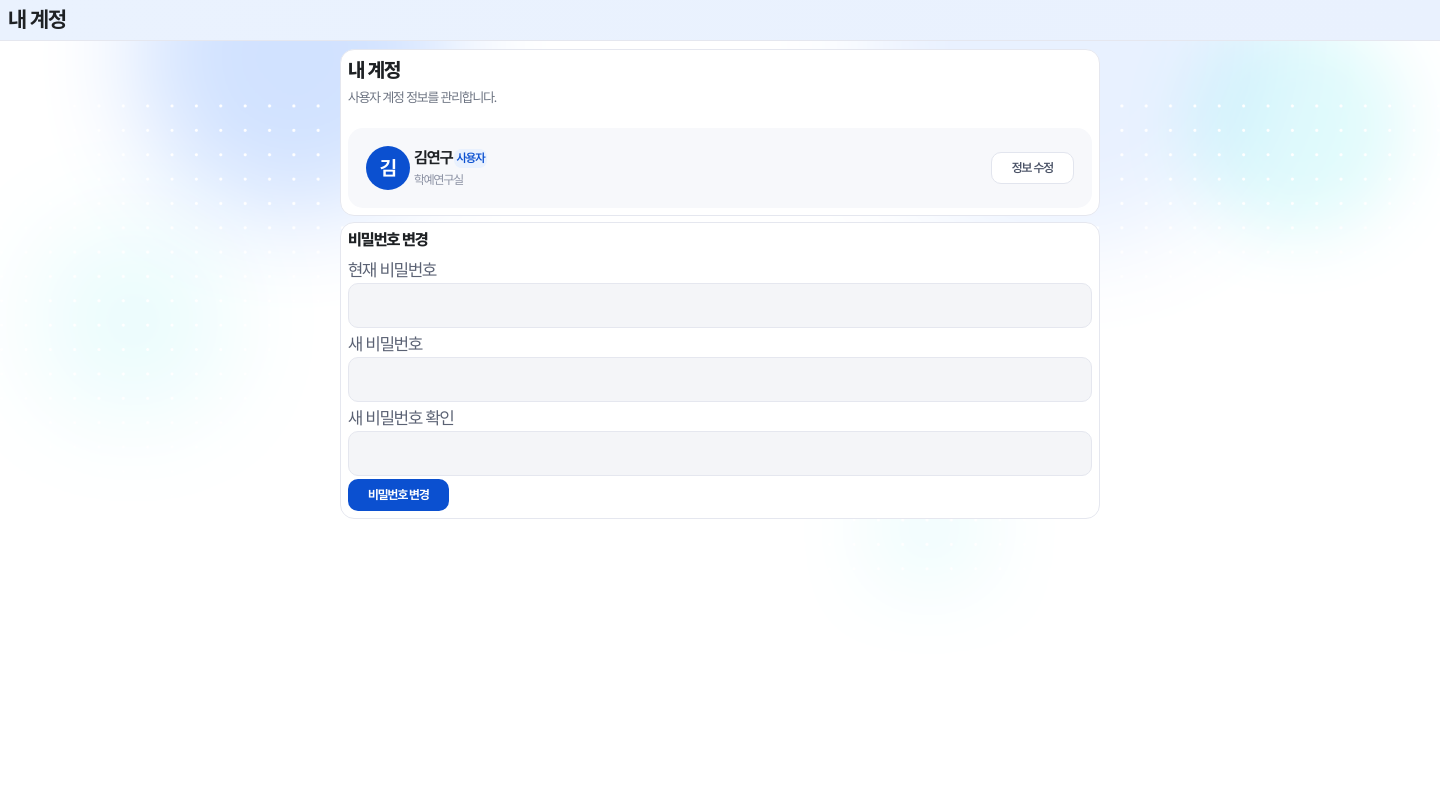
Scenario: 서버가 400과 사유를 반환하면 그 사유를 보여준다
Type "wrongpass" into the password field labelled "현재 비밀번호" at (720, 305), box x1=348 y1=283 x2=1092 y2=328
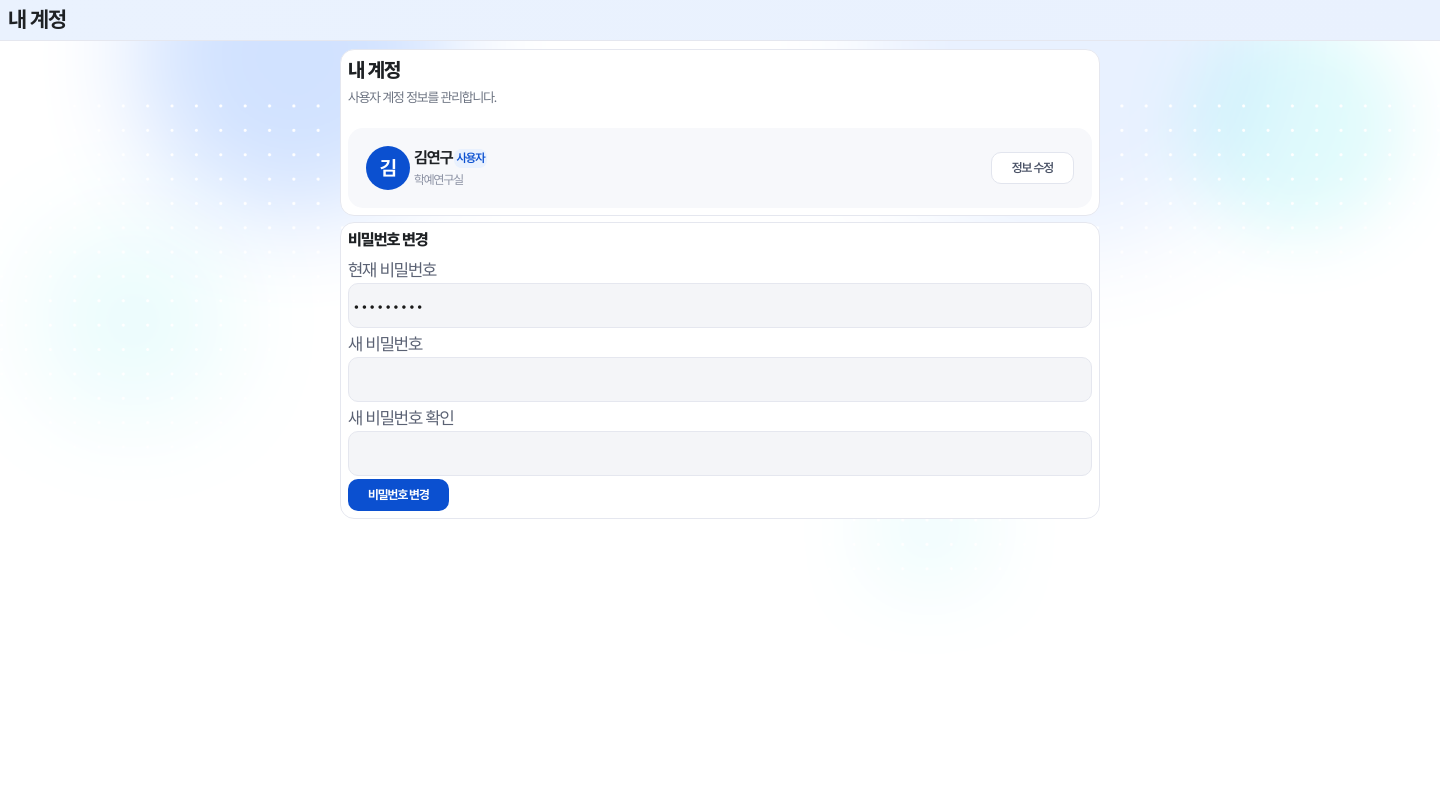
Type "newpass123" into the password field labelled "새 비밀번호" at (720, 379), box x1=348 y1=357 x2=1092 y2=402
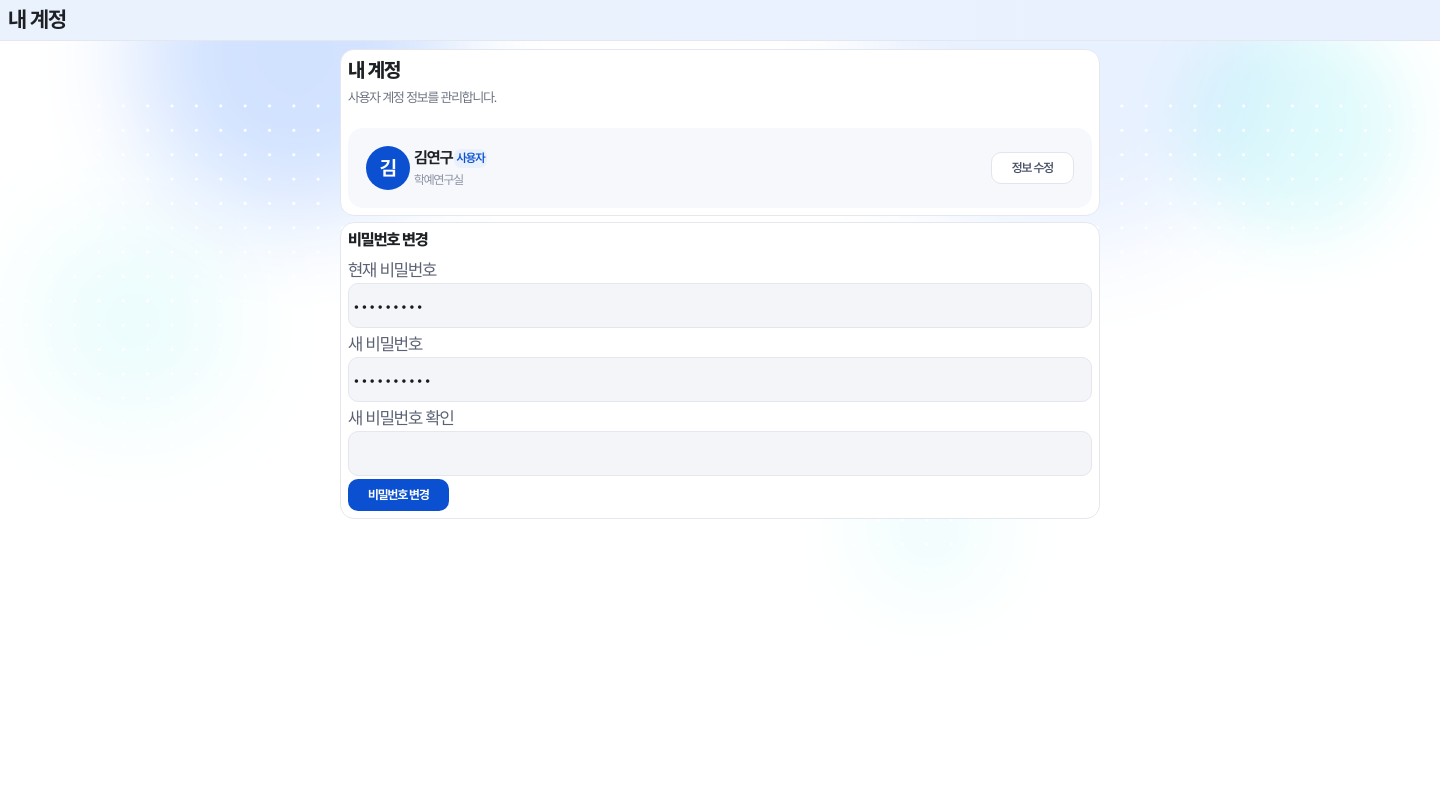
Type "newpass123" into the password field labelled "새 비밀번호 확인" at (720, 453), box x1=348 y1=431 x2=1092 y2=476
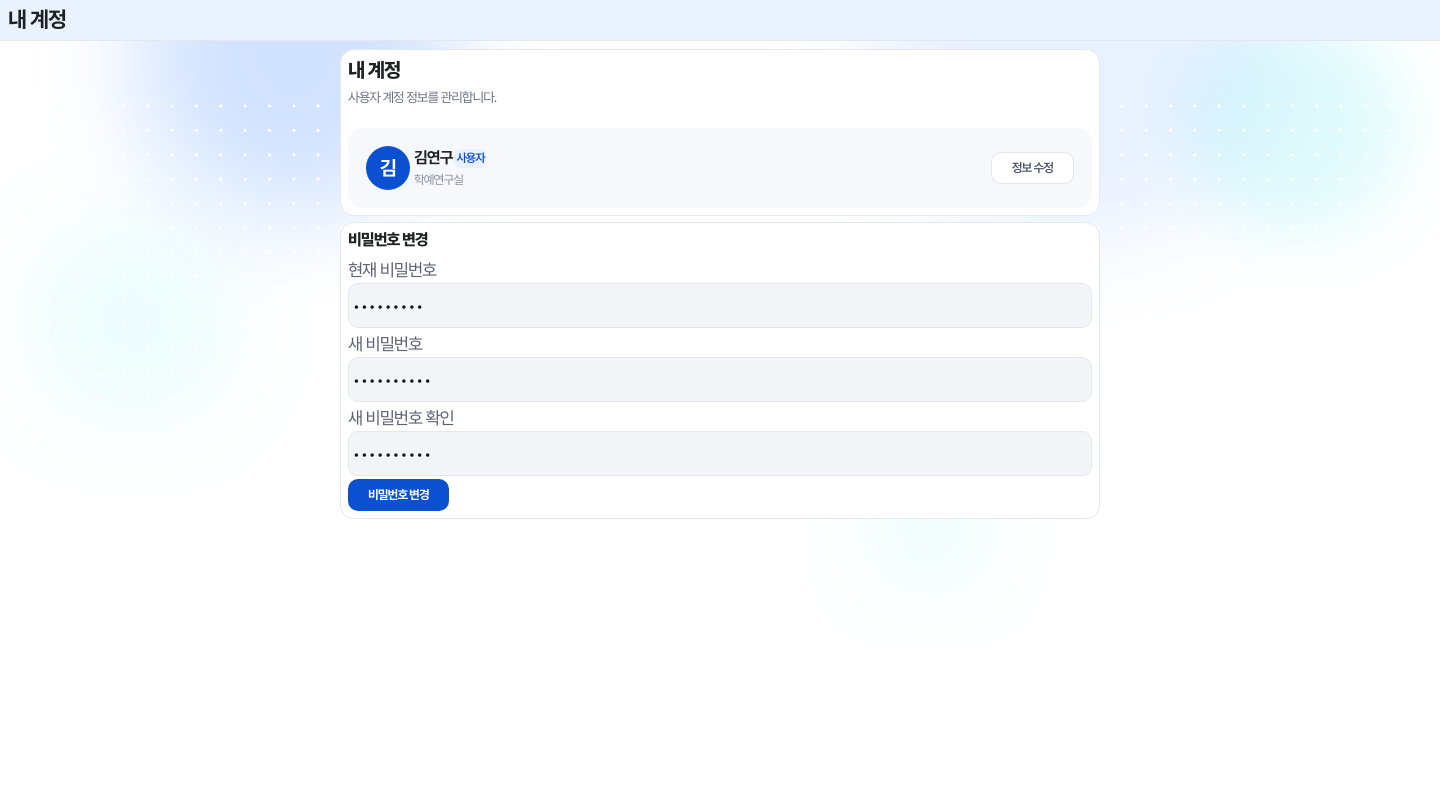
Click the button "비밀번호 변경" at (398, 495), box x1=348 y1=479 x2=449 y2=511
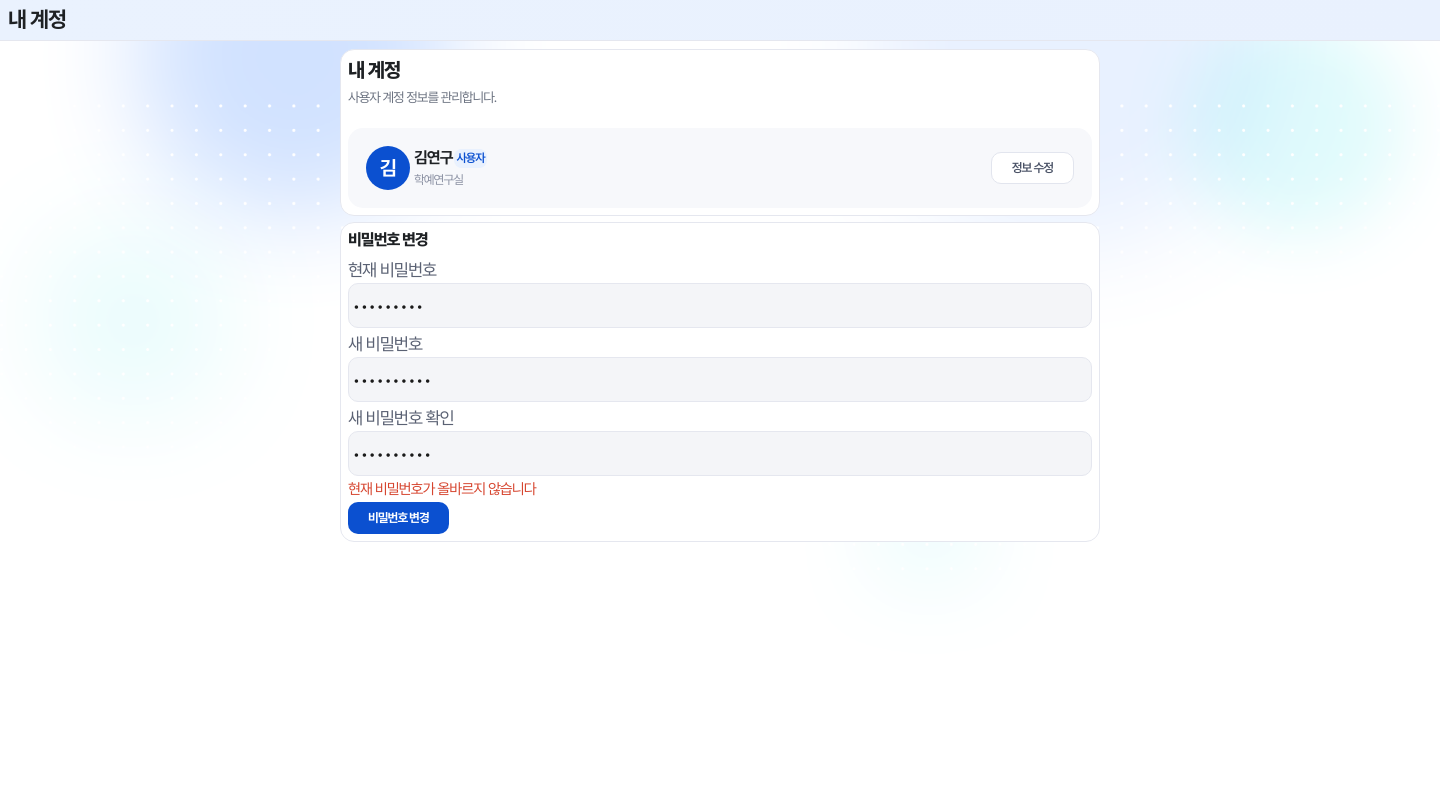
Result: the message reads "현재 비밀번호가 올바르지 않습니다" at x1=348 y1=480 x2=536 y2=498
